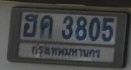txt03: (38, 14, 55, 40)
txt39: (22, 13, 39, 38)
